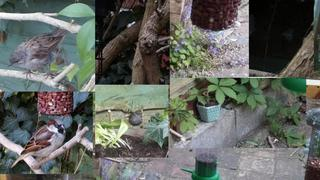dunnock: (7, 27, 68, 81)
sparrow: (10, 118, 66, 169), (124, 111, 142, 128)
